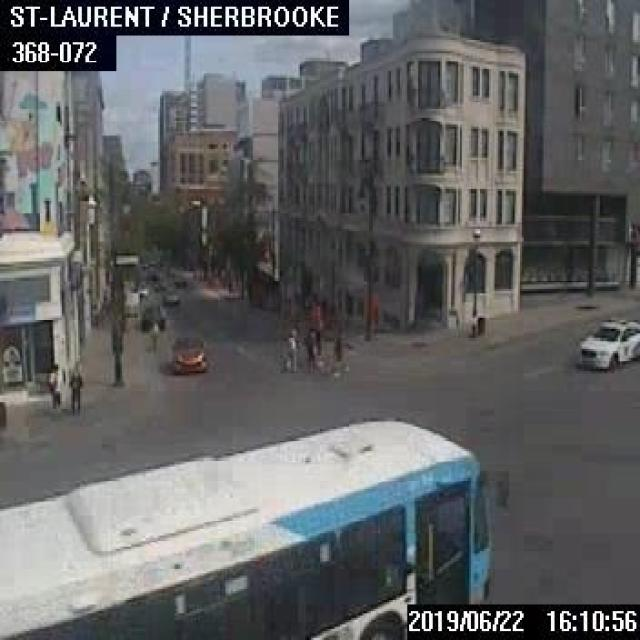bus: (0, 413, 507, 637)
pedestrian: (44, 360, 60, 409), (304, 320, 319, 372), (67, 365, 82, 411), (330, 327, 342, 378), (284, 324, 296, 374), (149, 320, 158, 349)
vehicle: (576, 316, 638, 371), (169, 333, 206, 371), (140, 301, 164, 331), (161, 288, 178, 303)
